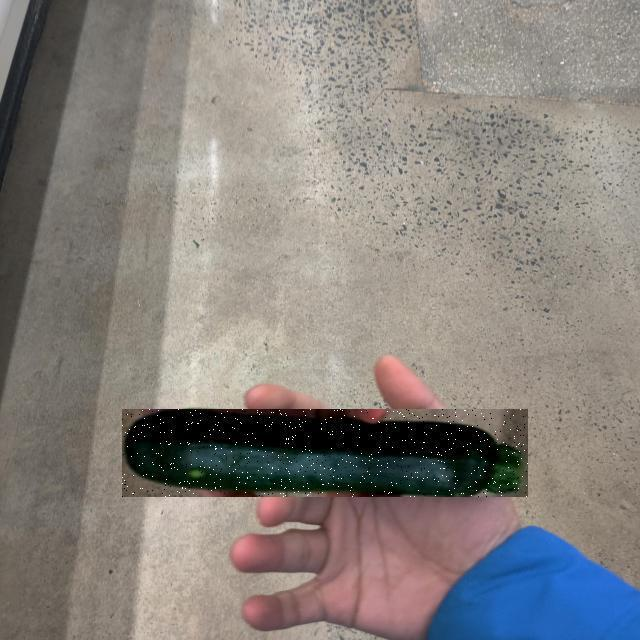Juice: (122, 409, 528, 497)
